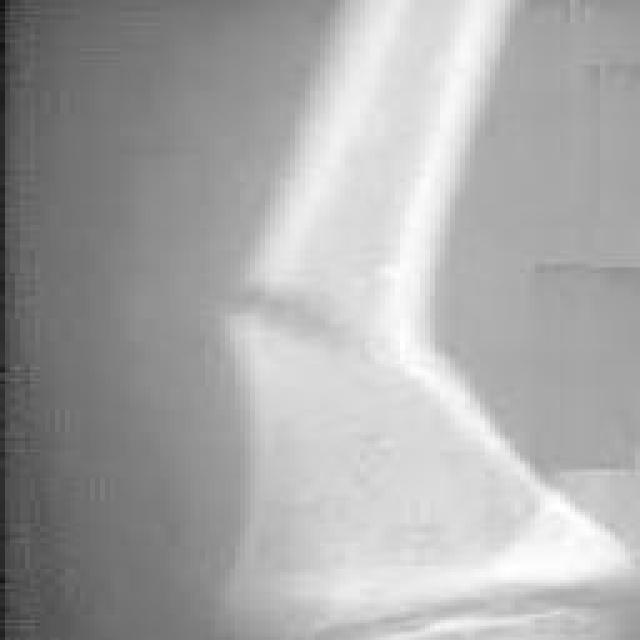Broken: (234, 321, 615, 618), (239, 2, 519, 343)
